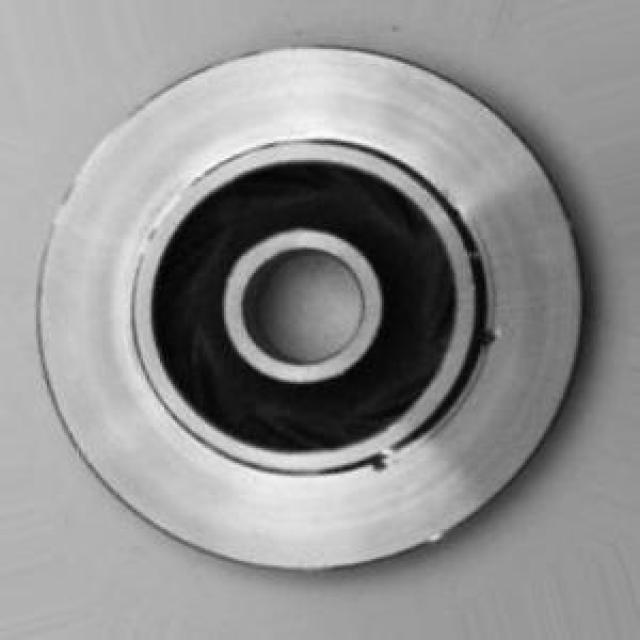Defect: (480, 325, 502, 356)
